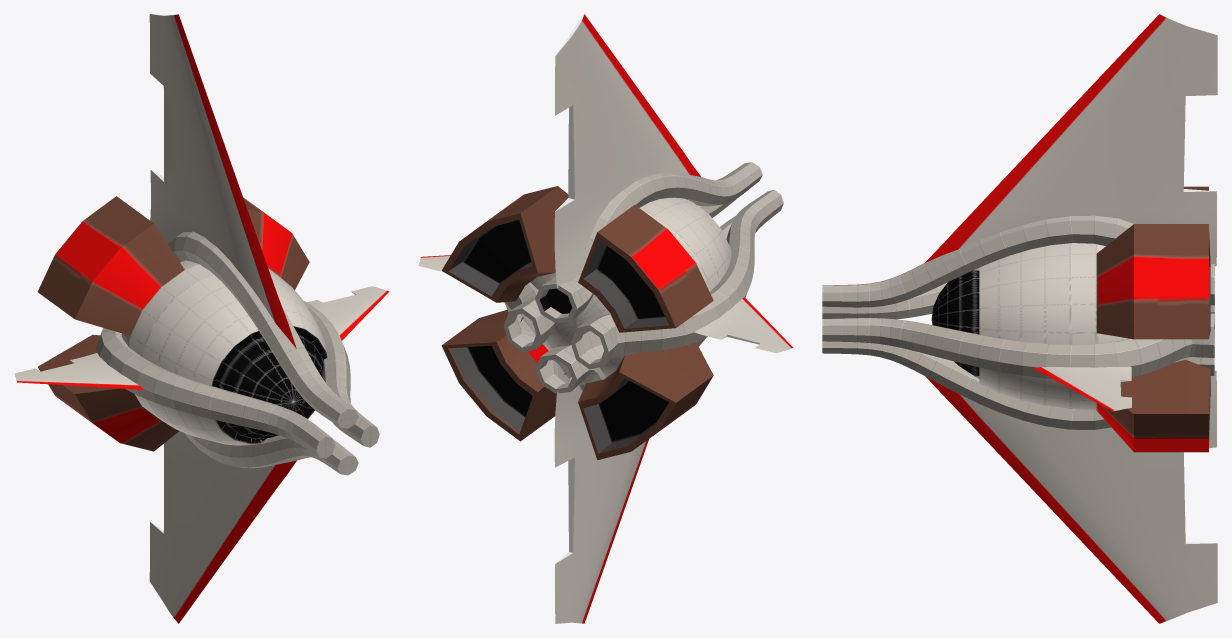
The model's file is gatherer_ship_red.fbx.
3 renders of one model, left to right at view 1: azimuth 30°, elevation 25°; view 2: azimuth 150°, elevation 25°; view 3: azimuth 270°, elevation 25°, orthographic.
Parts seen in each view (by area): view 1: heavy_ship; view 2: heavy_ship; view 3: heavy_ship.
Part boxes in pixels (x1,y1,x2,y2): heavy_ship: (14,14,389,623); heavy_ship: (418,14,793,623); heavy_ship: (822,14,1217,623).
Size of the model in its own units: 11.88 by 18.56 by 10.91.
Materials: 2 (1 with a texture image).
